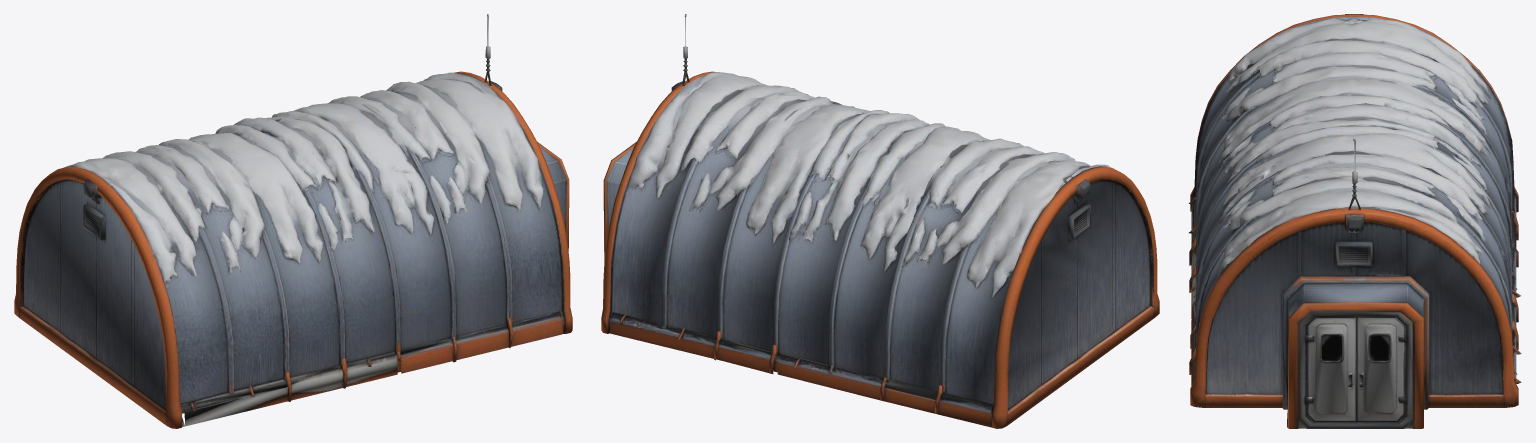
File: quonsetHut.glb
3 views of the same model, side by side, from view 1: azimuth 30°, elevation 25°; view 2: azimuth 150°, elevation 25°; view 3: azimuth 270°, elevation 25° (orthographic).
Visible parts, largest first — view 1: tripo_node_4096493b-4c4c-4be1-a38d-726b0566a23a; view 2: tripo_node_4096493b-4c4c-4be1-a38d-726b0566a23a; view 3: tripo_node_4096493b-4c4c-4be1-a38d-726b0566a23a.
Boxes of the visible parts, <box> form: tripo_node_4096493b-4c4c-4be1-a38d-726b0566a23a: <box>14,14,572,428</box>; tripo_node_4096493b-4c4c-4be1-a38d-726b0566a23a: <box>601,14,1159,428</box>; tripo_node_4096493b-4c4c-4be1-a38d-726b0566a23a: <box>1188,14,1521,428</box>.
Bounding box in the file's own units: 0.998 × 0.5527 × 0.6269.
1 material, 1 textured.
